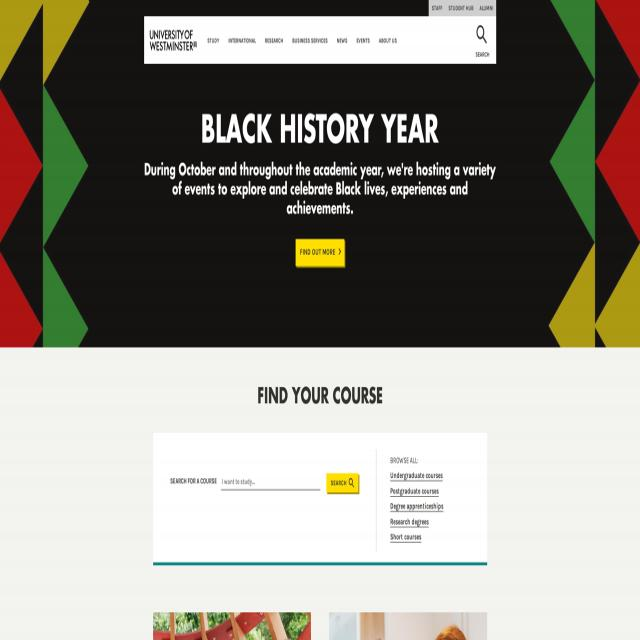button: (144, 16, 203, 64), (288, 16, 332, 64), (224, 16, 260, 64), (260, 16, 288, 64), (374, 16, 402, 64), (296, 239, 344, 266), (469, 16, 496, 64), (202, 16, 224, 64), (352, 16, 374, 64), (332, 16, 352, 64), (326, 473, 359, 493), (446, 0, 476, 16), (476, 0, 496, 16), (428, 0, 446, 16)
field: (221, 471, 320, 489)
